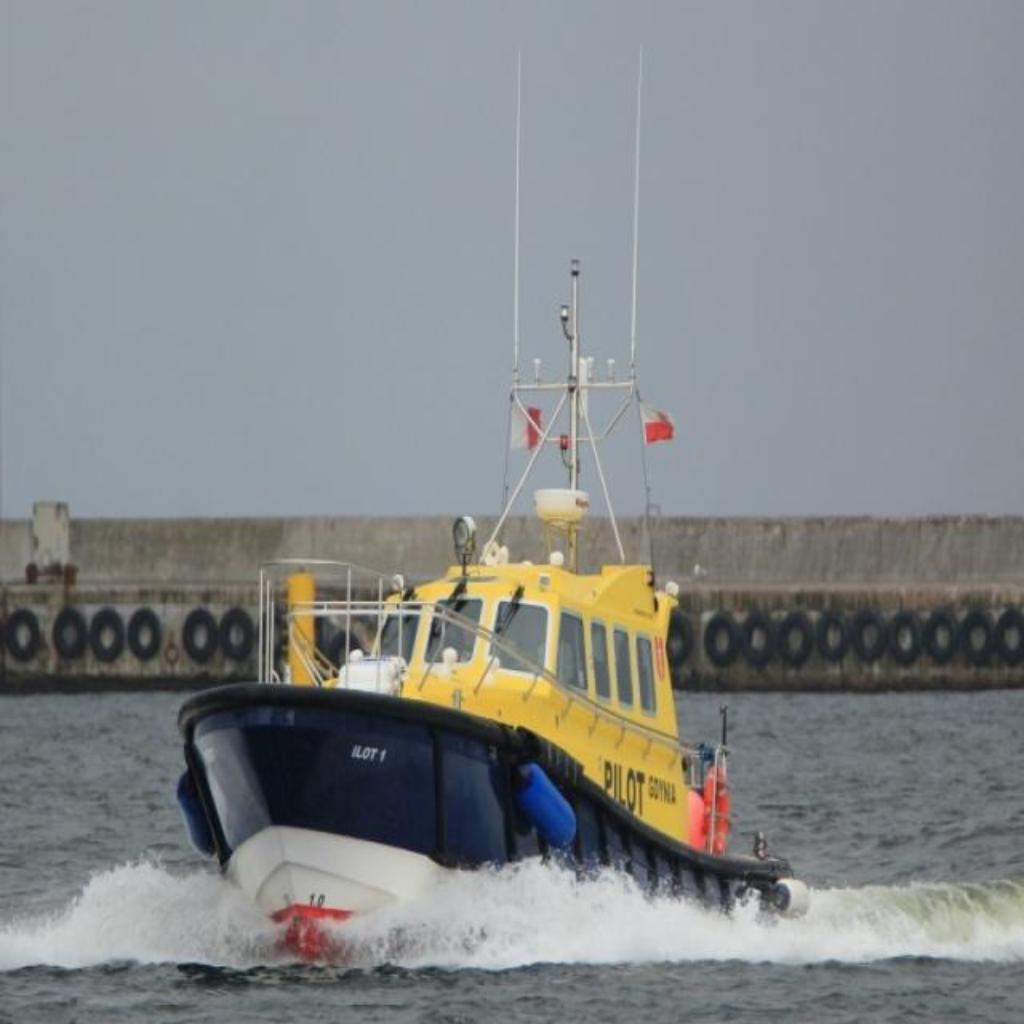PassengerShip: (174, 374, 800, 964)
